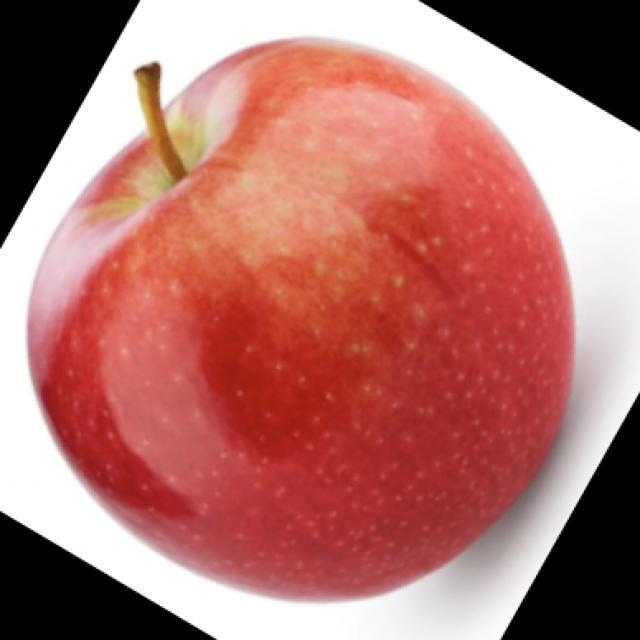Fresh Apple: (29, 27, 576, 607)
